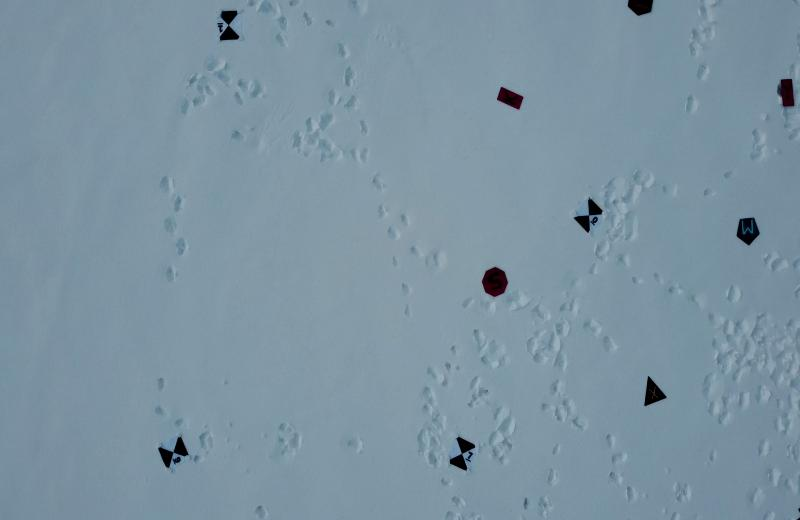Hexagon: (625, 0, 653, 17)
Octagon: (478, 263, 510, 298)
Pentagon: (734, 215, 760, 246)
Rectangle: (494, 84, 526, 115), (782, 74, 794, 111)
Triangle: (640, 376, 668, 408)
